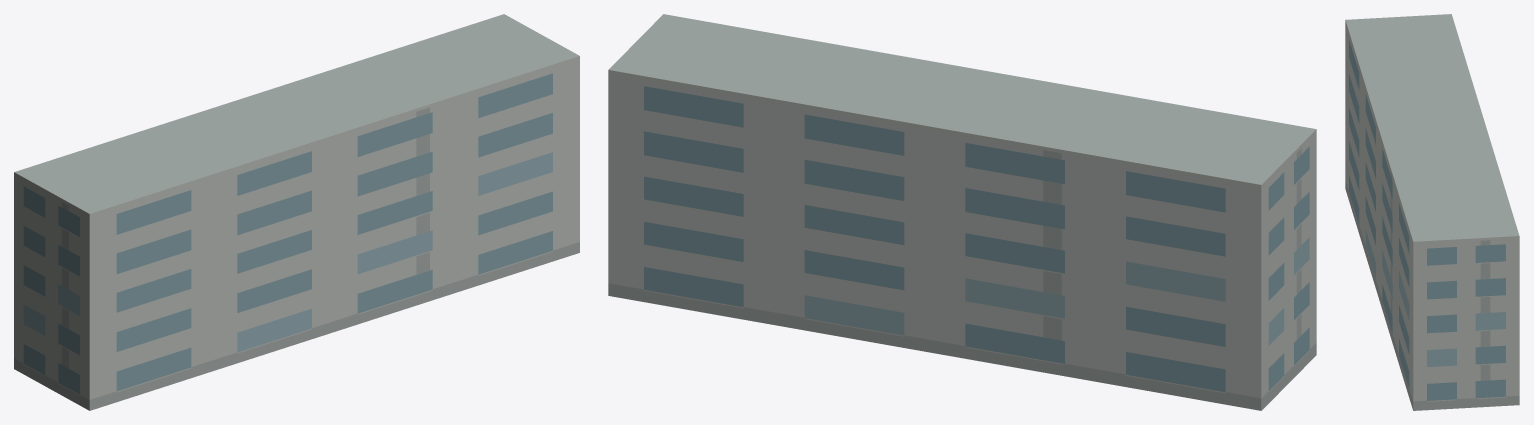
The model's file is residential-fe898d21-a77e-4599-9150-03e4253b8b28.glb.
The picture shows the model from 3 angles, left to right: view 1: azimuth 30°, elevation 25°; view 2: azimuth 150°, elevation 25°; view 3: azimuth 270°, elevation 25°; orthographic projection. The views are drawn at different scales.
Visible parts, largest first — view 1: residential-fe898d21-a77e-4599-9150-03e4253b8b28.tmp; view 2: residential-fe898d21-a77e-4599-9150-03e4253b8b28.tmp; view 3: residential-fe898d21-a77e-4599-9150-03e4253b8b28.tmp.
Boxes of the visible parts, bbox=[...] form: residential-fe898d21-a77e-4599-9150-03e4253b8b28.tmp: bbox=[14, 14, 579, 410]; residential-fe898d21-a77e-4599-9150-03e4253b8b28.tmp: bbox=[608, 14, 1316, 410]; residential-fe898d21-a77e-4599-9150-03e4253b8b28.tmp: bbox=[1345, 14, 1519, 410].
Bounding box in the file's own units: 44.06 × 15.25 × 14.24.
